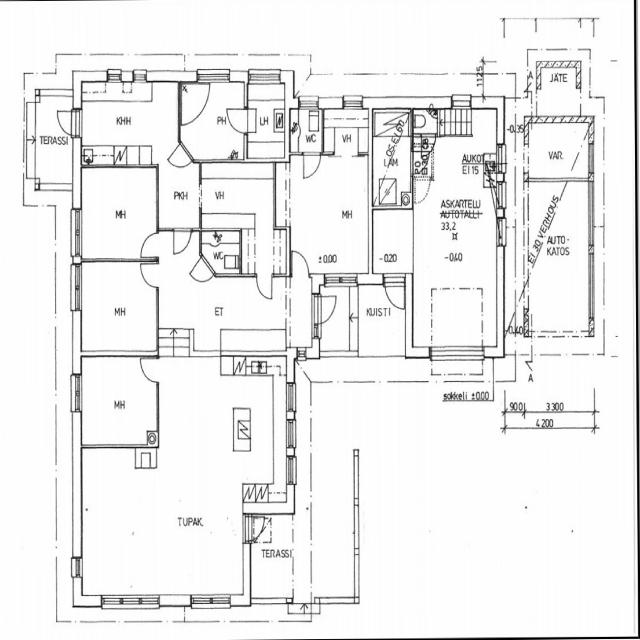door: (189, 255, 215, 292), (168, 142, 194, 177), (384, 274, 404, 314), (311, 296, 339, 324), (243, 516, 268, 541), (56, 112, 81, 135), (174, 228, 192, 255), (227, 109, 247, 133), (410, 151, 430, 174), (292, 250, 309, 276), (304, 152, 320, 178), (140, 359, 158, 382), (140, 264, 158, 287), (140, 234, 158, 257), (256, 274, 272, 298), (421, 134, 436, 158)
